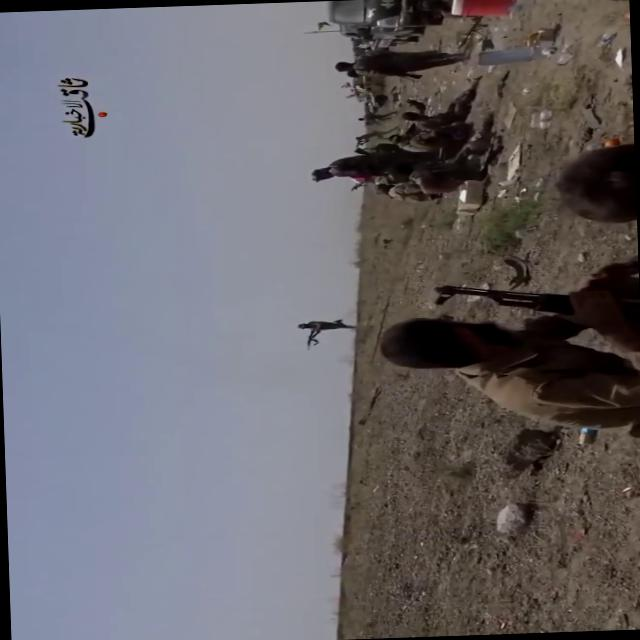long weapon: (426, 268, 639, 331), (299, 329, 330, 352)
